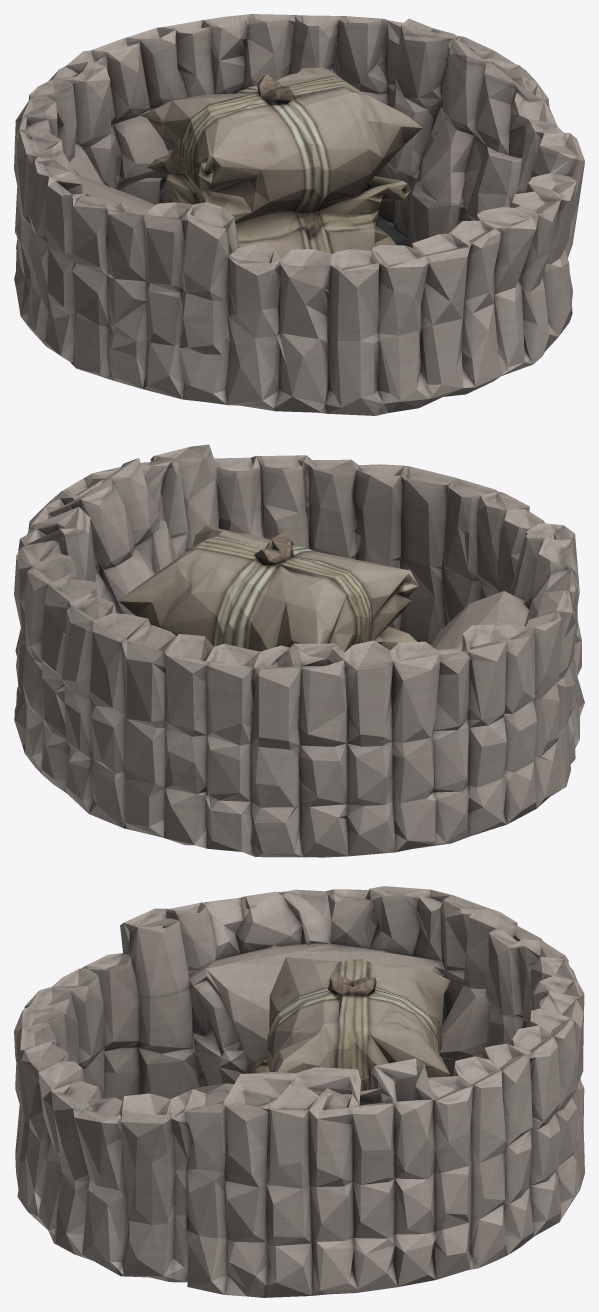
Rendered from sandbags.obj.
3 renders of one model, top to bottom at view 1: azimuth 30°, elevation 25°; view 2: azimuth 150°, elevation 25°; view 3: azimuth 270°, elevation 25°, orthographic. The views are drawn at different scales.
Visible parts, largest first — view 1: sandbags; view 2: sandbags; view 3: sandbags.
Part boxes in pixels (x1,y1,x2,y2): sandbags: (14, 14, 584, 415); sandbags: (14, 444, 584, 857); sandbags: (14, 886, 584, 1297).
Bounding box in the file's own units: 4.97 × 2.21 × 5.
1 material, 1 textured.
